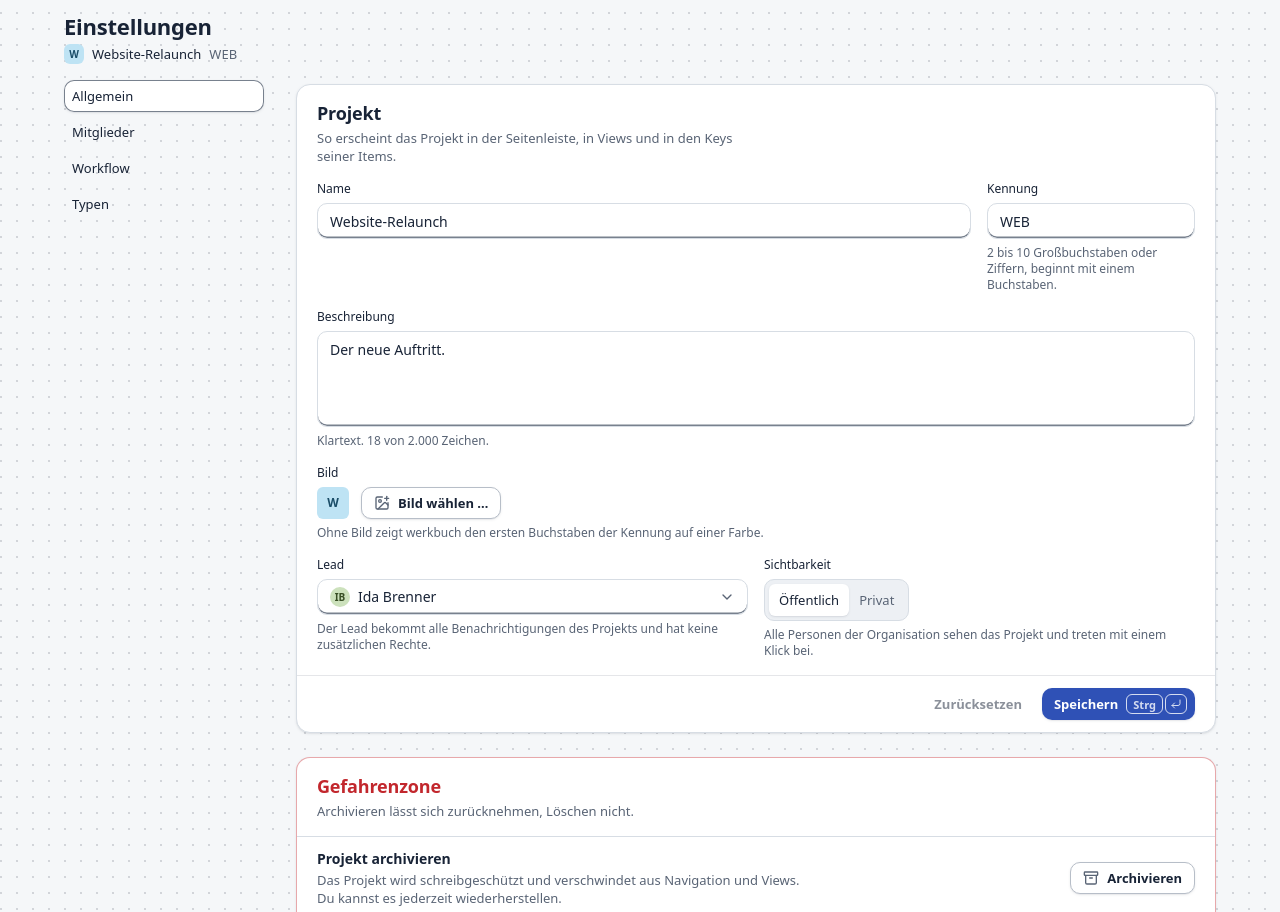
General › says when there is nothing to save, and sets the form back
Click the button "Speichern Strg": (1118,704) [1042,688,1195,720]
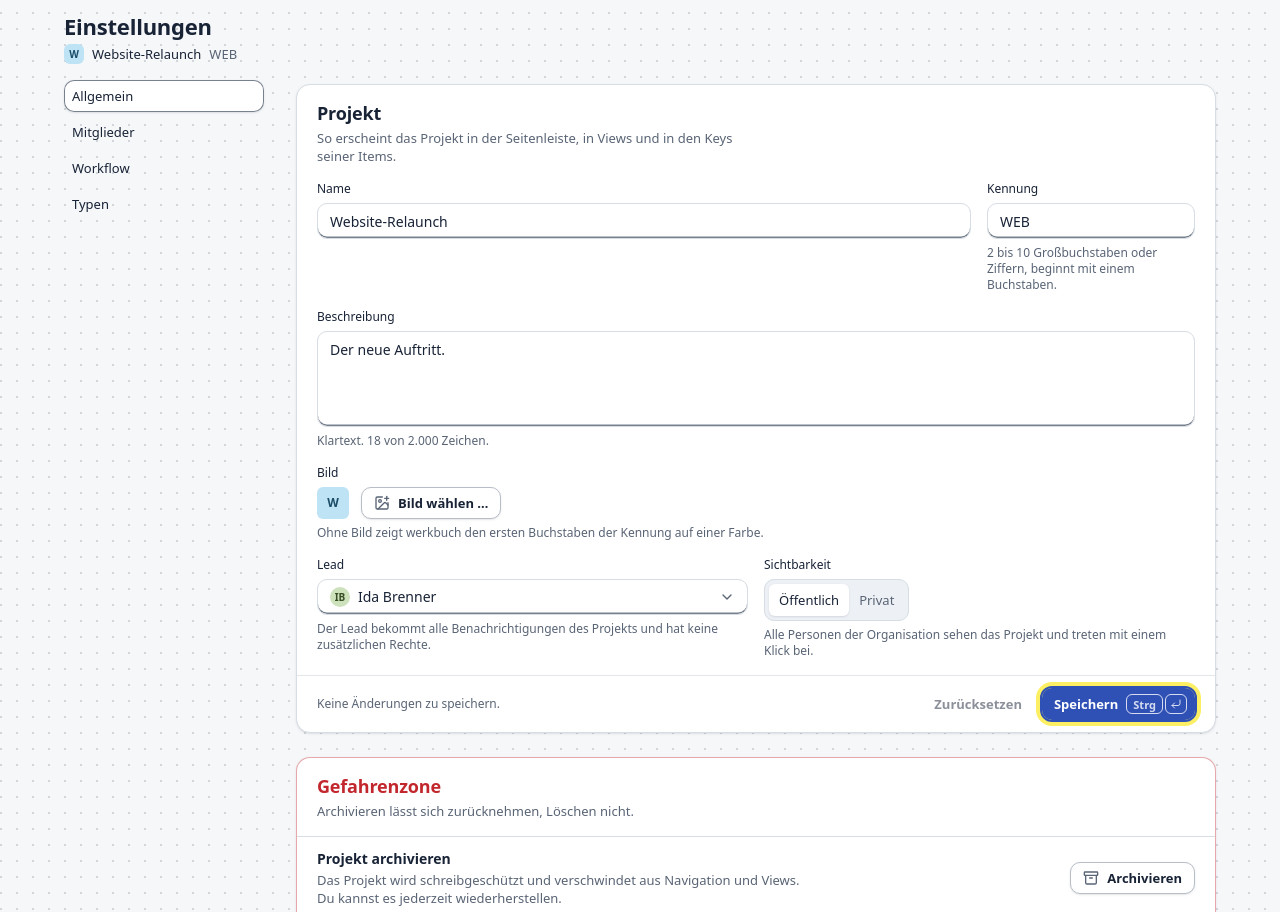
Expected: the text "Keine Änderungen zu speichern." is shown, [317,696,500,712]
In the field labelled "Name": (644,221) [317,203,971,239], type "!"
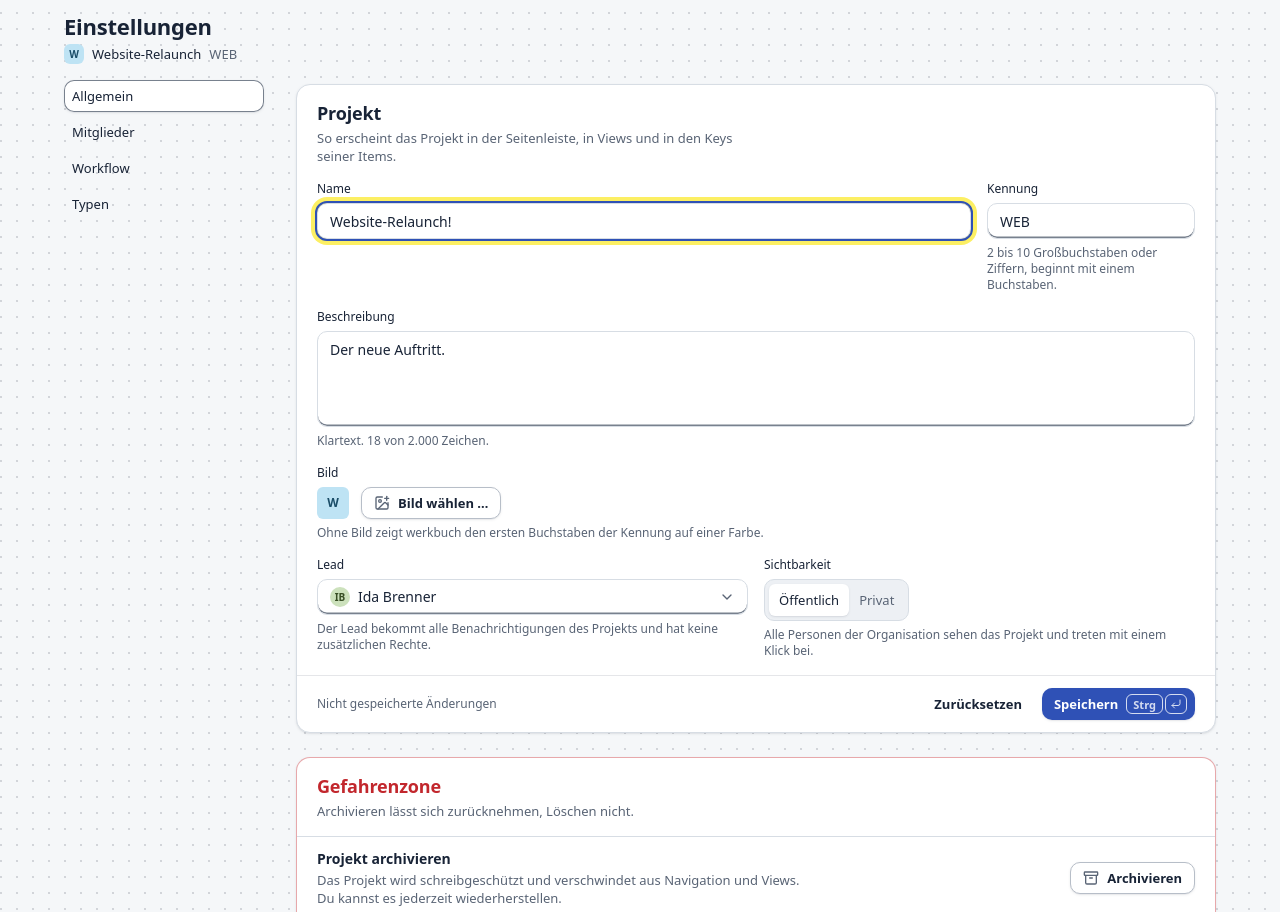
Click the button "Zurücksetzen": (978,704) [922,688,1034,720]
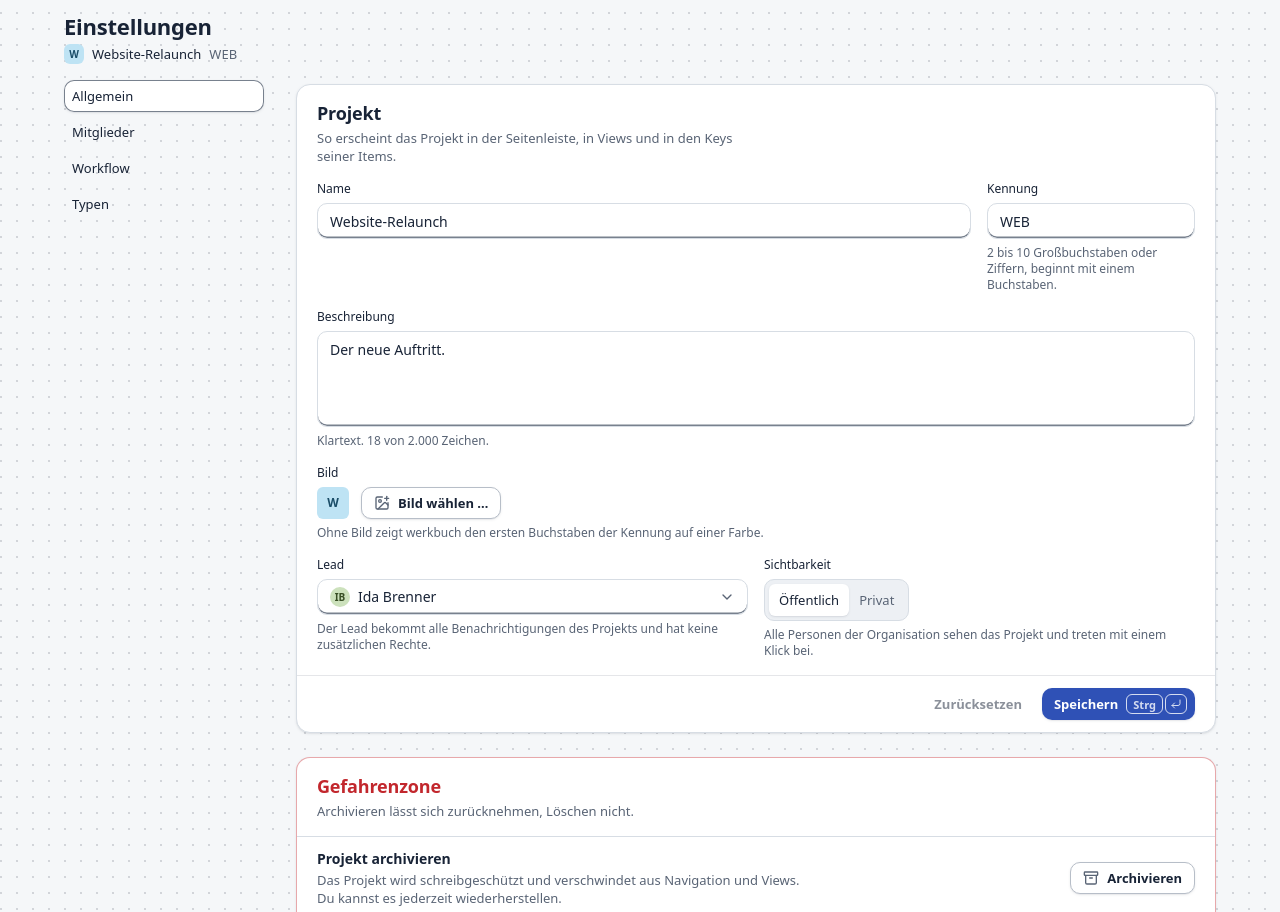
Expected: the field labelled "Name" holds "Website-Relaunch", [317,203,971,239]
